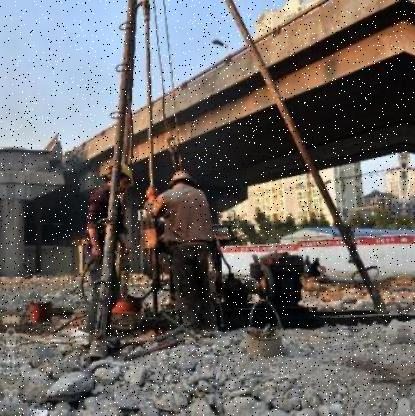helmet: (104, 158, 138, 190), (167, 169, 200, 194)
